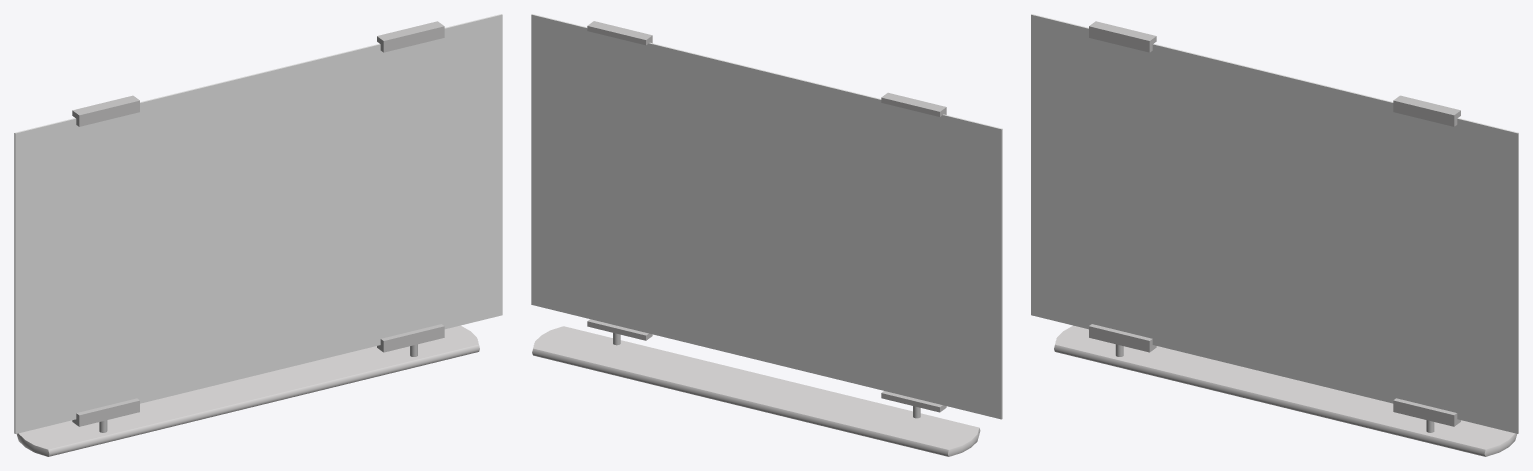
Rendered from whiteboard.FBX.
3 renders of one model, left to right at view 1: azimuth 30°, elevation 25°; view 2: azimuth 150°, elevation 25°; view 3: azimuth 330°, elevation 25°, orthographic. The views are drawn at different scales.
Parts seen in each view (by area): view 1: Box003_Box003_auv; view 2: Box003_Box003_auv; view 3: Box003_Box003_auv.
Part boxes in pixels (x1,y1,x2,y2): Box003_Box003_auv: (14, 14, 502, 456); Box003_Box003_auv: (531, 14, 1002, 456); Box003_Box003_auv: (1031, 14, 1518, 456).
Size of the model in its own units: 595 by 388 by 71.61.
Materials: 1 (1 with a texture image).
